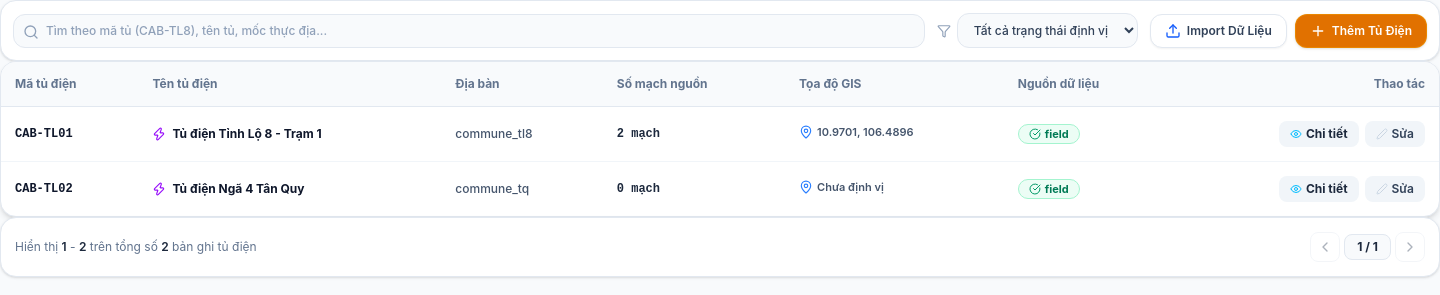
Test: CabinetsTab & Cabinet Components Test Suite (Task 2) › 1. Happy Path - Component Rendering & User Interactions › lọc theo trạng thái định vị GIS (Đã định vị vs Chưa định vị)
Lọc tủ đã định vị GIS
Select "Đã định vị GIS" in the dropdown showing "Tất cả trạng thái định vị": (1047, 30) [957,13,1138,48]
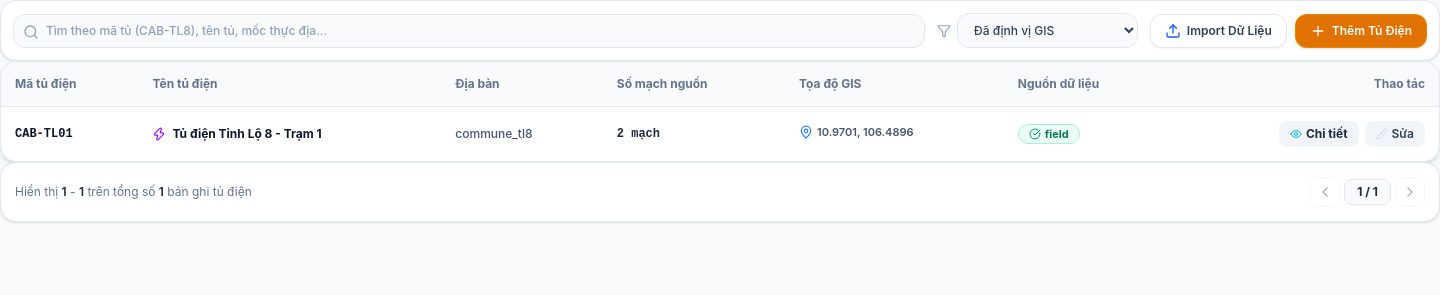
Expected: the text "CAB-TL01" is shown, [15,127,73,141]
Result: the text "CAB-TL02" is gone
Lọc tủ chưa định vị GIS
Select "Chưa định vị" in the dropdown showing "Tất cả trạng thái định vị": (1047, 30) [957,13,1138,48]
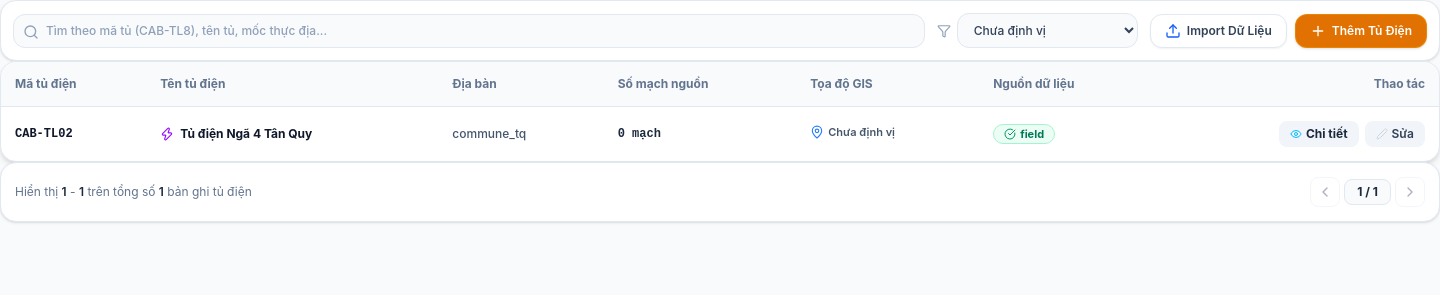
Result: the text "CAB-TL02" is shown at [15,127,73,141]
Result: the text "CAB-TL01" is gone
